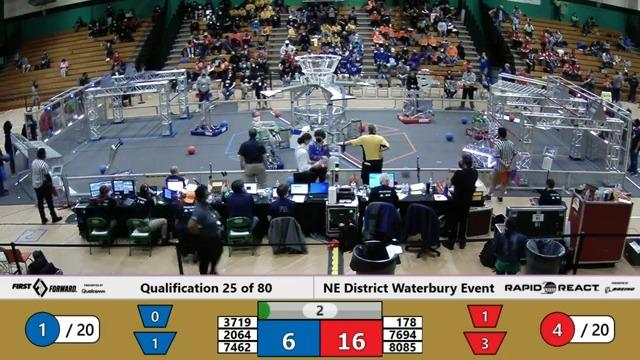robot: (248, 114, 285, 171), (98, 136, 137, 189), (189, 93, 230, 138), (395, 87, 435, 126), (459, 136, 501, 171), (464, 108, 503, 142)
